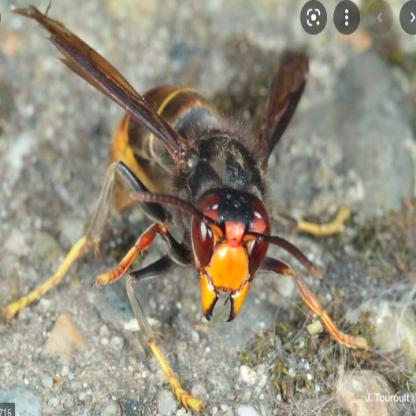asian: (22, 66, 363, 386)
